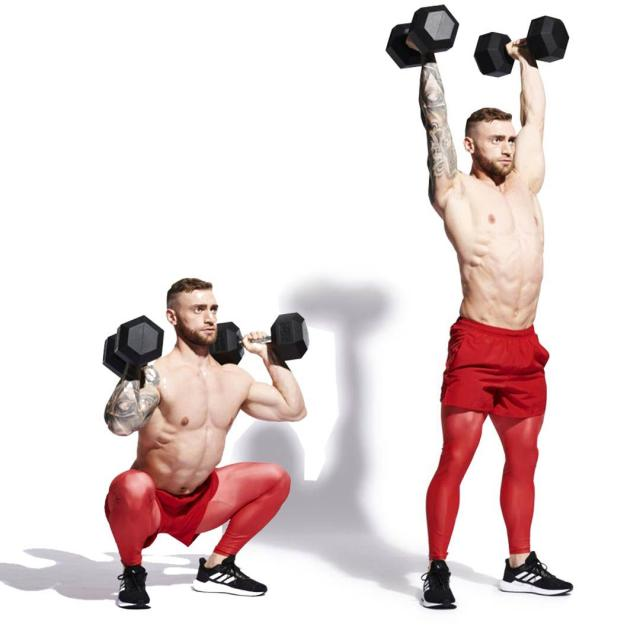adult: (412, 28, 573, 610), (103, 274, 307, 606)
